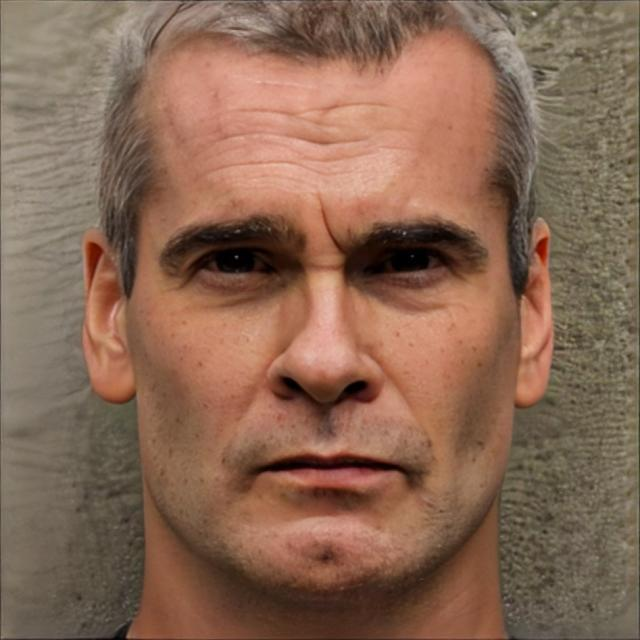anger: (130, 36, 522, 604)
